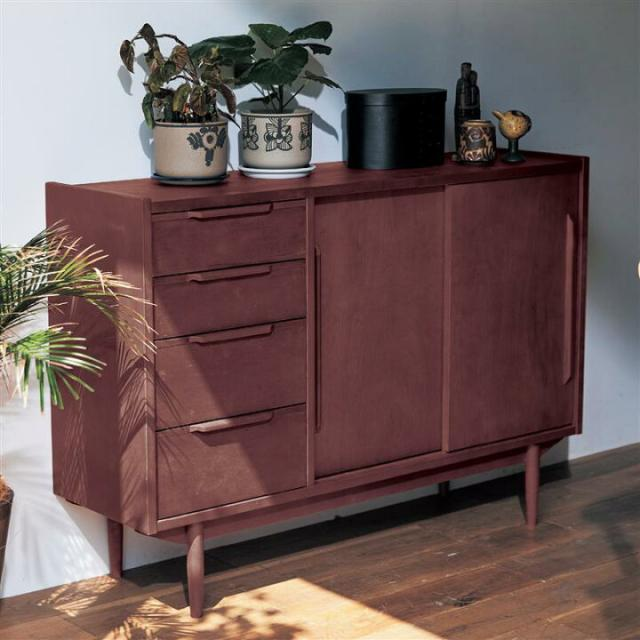vintage shelf: (38, 145, 590, 620)
